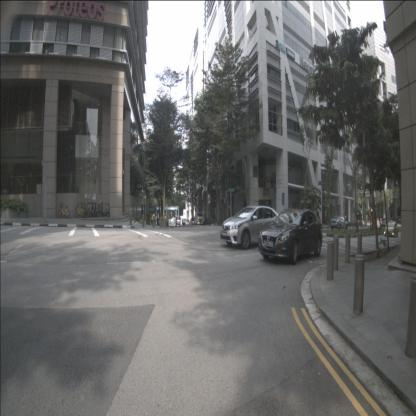human-pedestrian-adult: (290, 204, 294, 224), (151, 211, 154, 226), (358, 210, 361, 222), (157, 211, 159, 227), (153, 211, 155, 225), (356, 210, 358, 222), (155, 214, 157, 225)
vehicle-bicycle: (58, 202, 70, 218)
vehicle-car: (258, 208, 323, 265), (220, 205, 285, 250), (330, 215, 348, 230), (384, 221, 398, 237), (194, 212, 204, 225), (381, 218, 387, 227), (190, 217, 196, 225), (184, 219, 190, 226), (176, 216, 180, 226), (182, 218, 186, 226)
